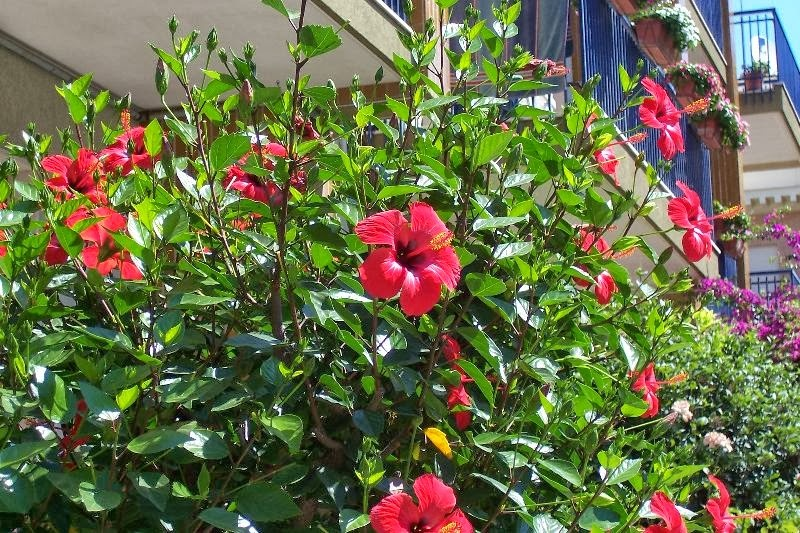Hibiscus-rosa-sinesis: (353, 201, 458, 315), (369, 475, 473, 533), (670, 183, 740, 262), (639, 79, 708, 159), (705, 471, 776, 533), (98, 112, 167, 170), (632, 358, 687, 415)
